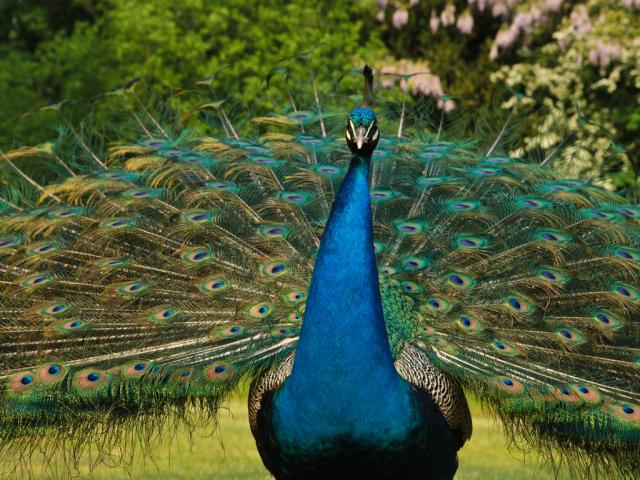Bird: (0, 41, 640, 478)
